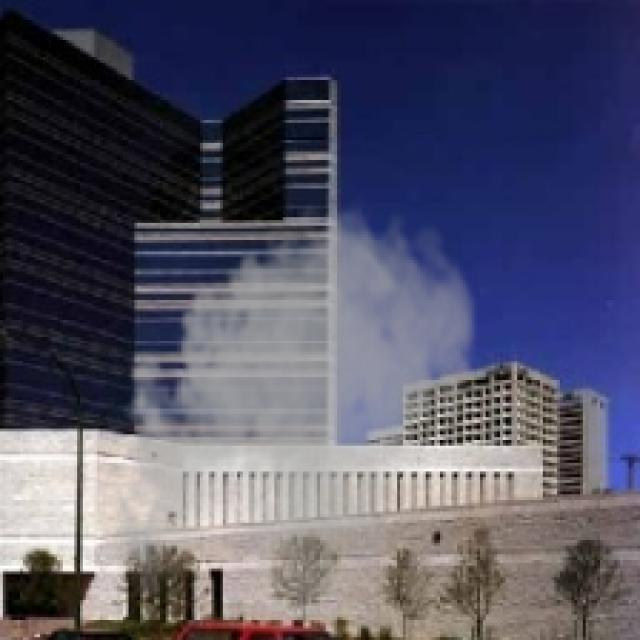Smoke: (103, 195, 486, 620)
